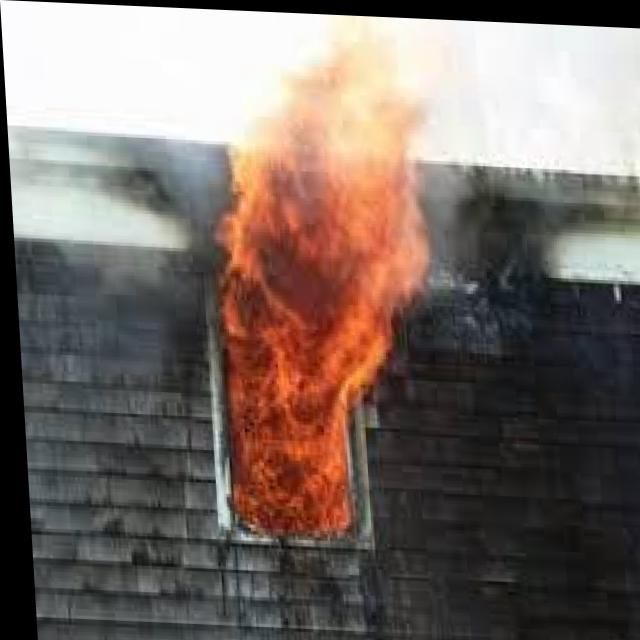fire: (188, 56, 453, 566)
